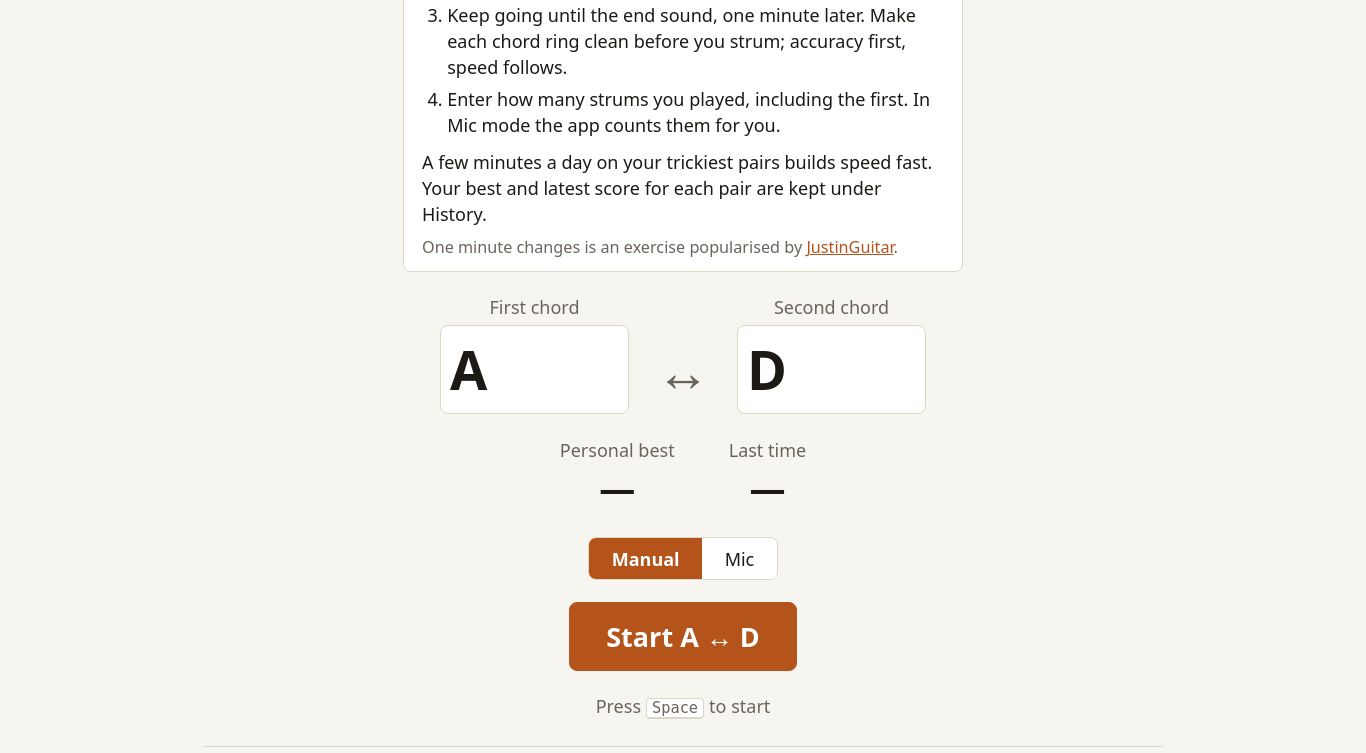
Test: invalid chord names warn and block starting
The image size is (1366, 753).
(page scrolled)
Clear the field labelled "First chord": [534, 370] box x1=440 y1=325 x2=629 y2=414
(page scrolled)
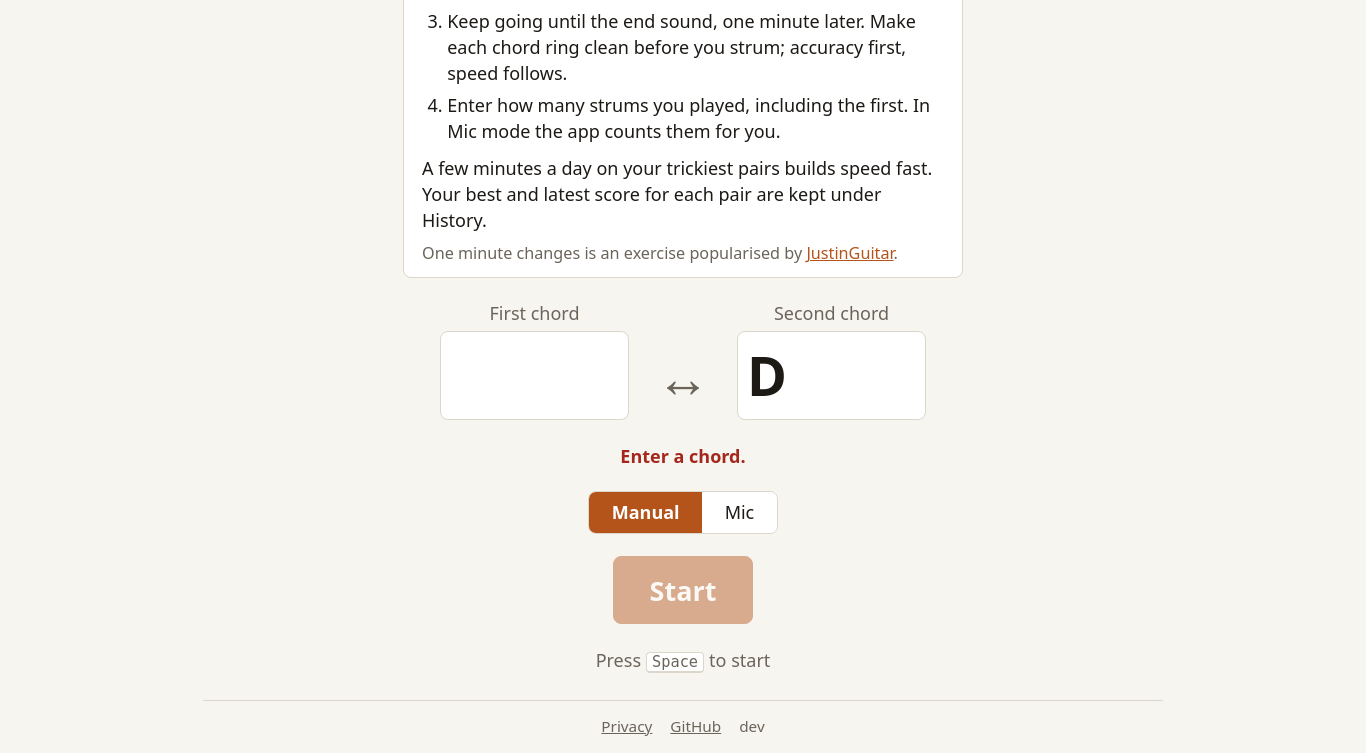
Expected: the message shows "Enter a chord", x1=620 y1=444 x2=746 y2=468
Expected: the button "Start" is disabled, x1=612 y1=556 x2=753 y2=624
In the field labelled "First chord": [534, 376] box x1=440 y1=331 x2=629 y2=420, type "A|B"
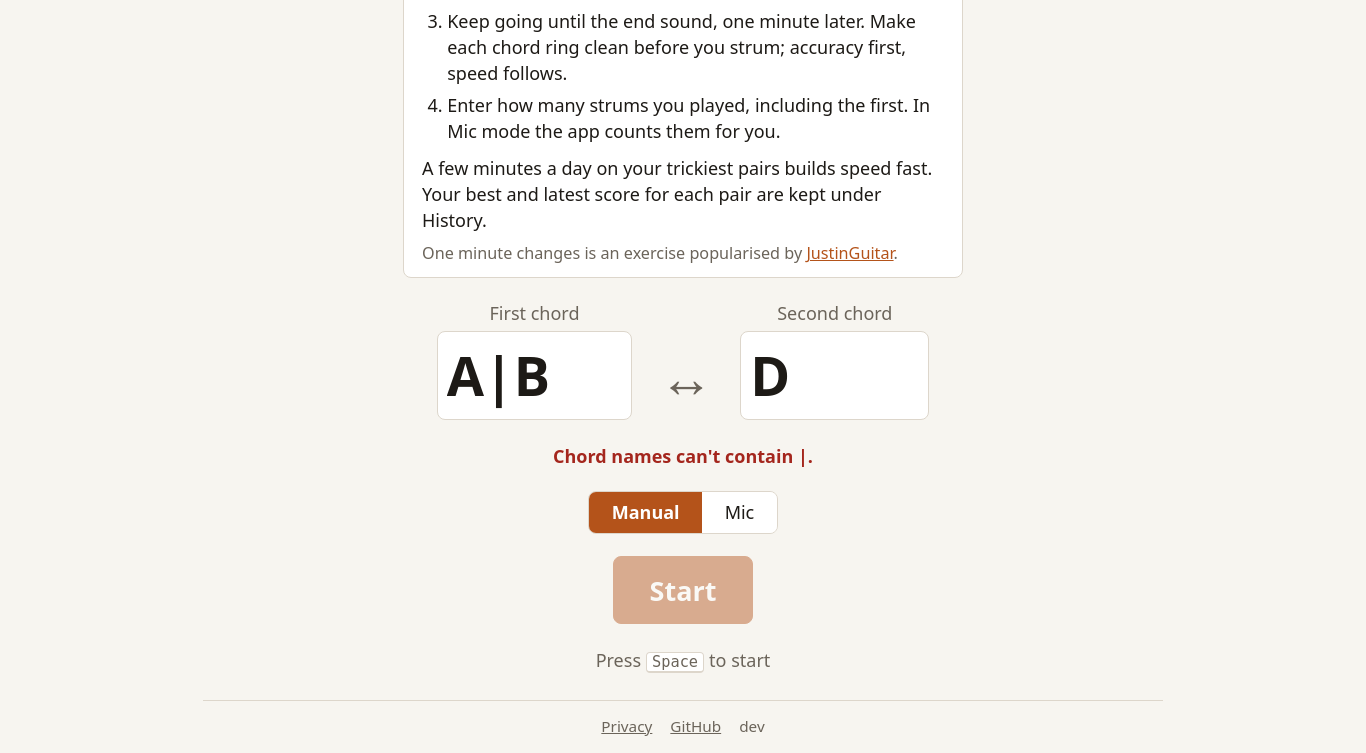
Expected: the button "Start" is disabled, x1=612 y1=556 x2=753 y2=624
Expected: the message shows "can't contain |", x1=553 y1=444 x2=813 y2=468
Replace the text in the field labelled "First chord" with "F#m7b5/E12345": [535, 376] box x1=437 y1=331 x2=632 y2=420
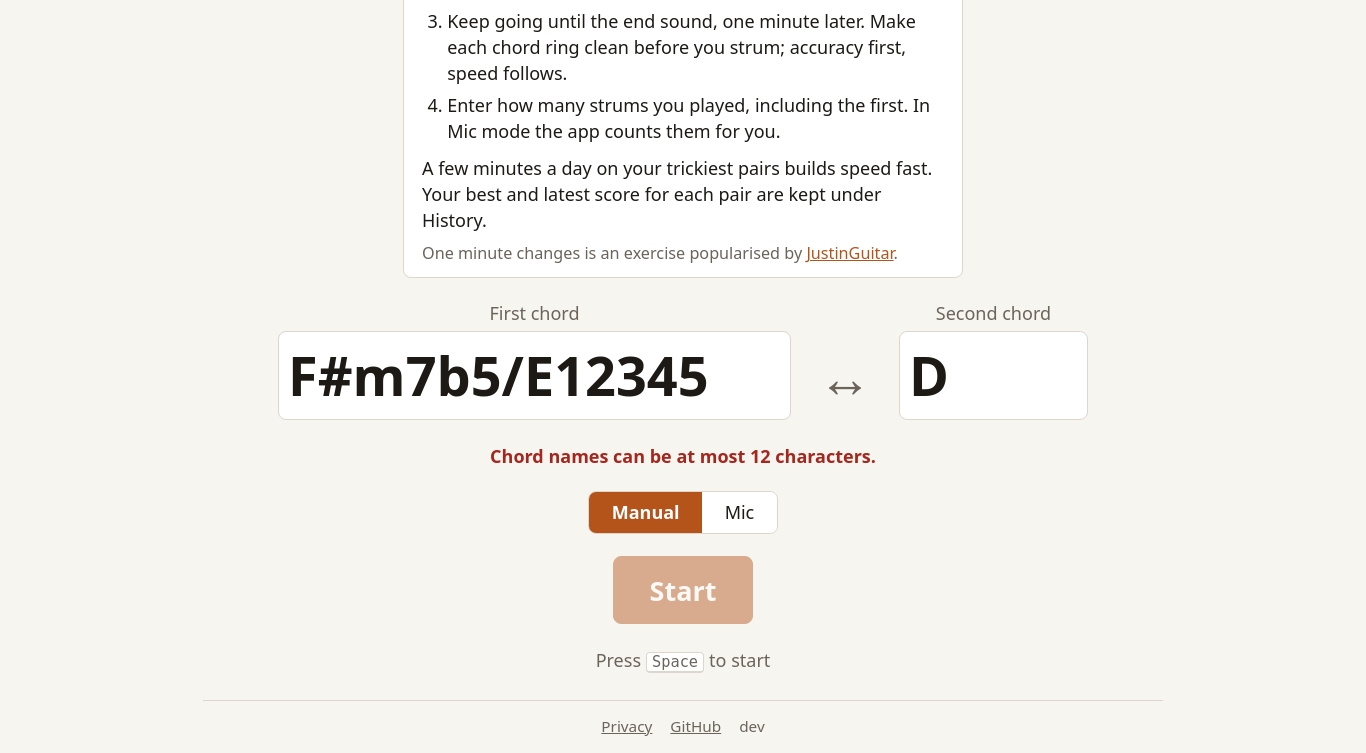
Expected: the button "Start" is disabled, x1=612 y1=556 x2=753 y2=624
Expected: the message shows "at most 12 characters", x1=490 y1=444 x2=876 y2=468
